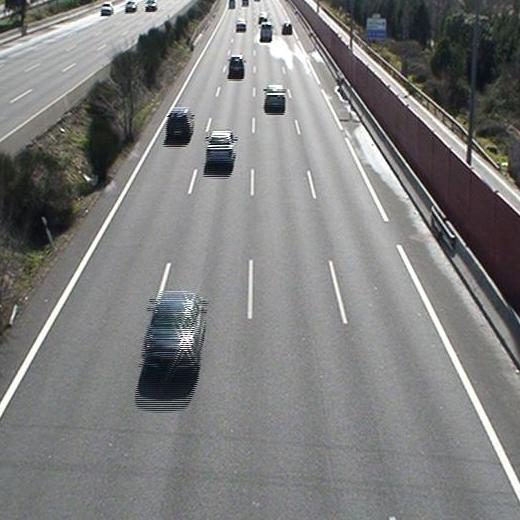car: (144, 292, 206, 375), (206, 131, 237, 167), (167, 108, 194, 138), (265, 85, 287, 112), (228, 54, 246, 77), (235, 20, 248, 31), (281, 22, 292, 34), (258, 11, 267, 24)
van: (260, 23, 273, 43)
